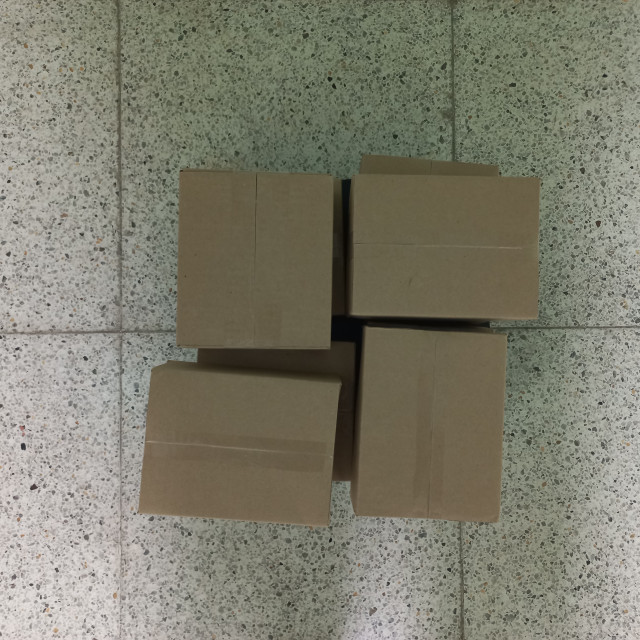box: (131, 359, 343, 529), (349, 323, 511, 527), (173, 166, 337, 351), (344, 172, 545, 321), (301, 112, 459, 278), (179, 116, 297, 317), (306, 287, 429, 474), (153, 317, 300, 473)
